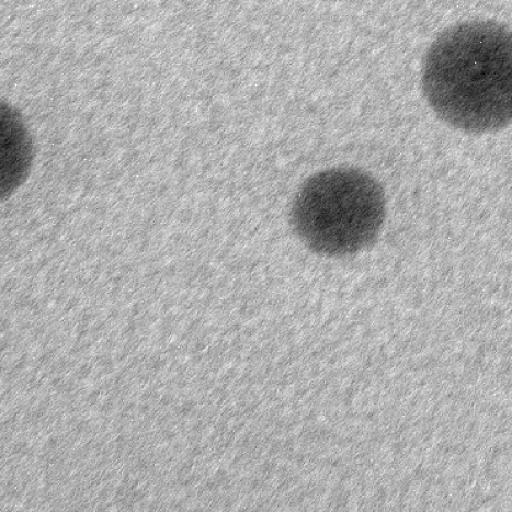Nanoparticles: (420, 17, 512, 142), (285, 160, 390, 264), (0, 99, 33, 203)
